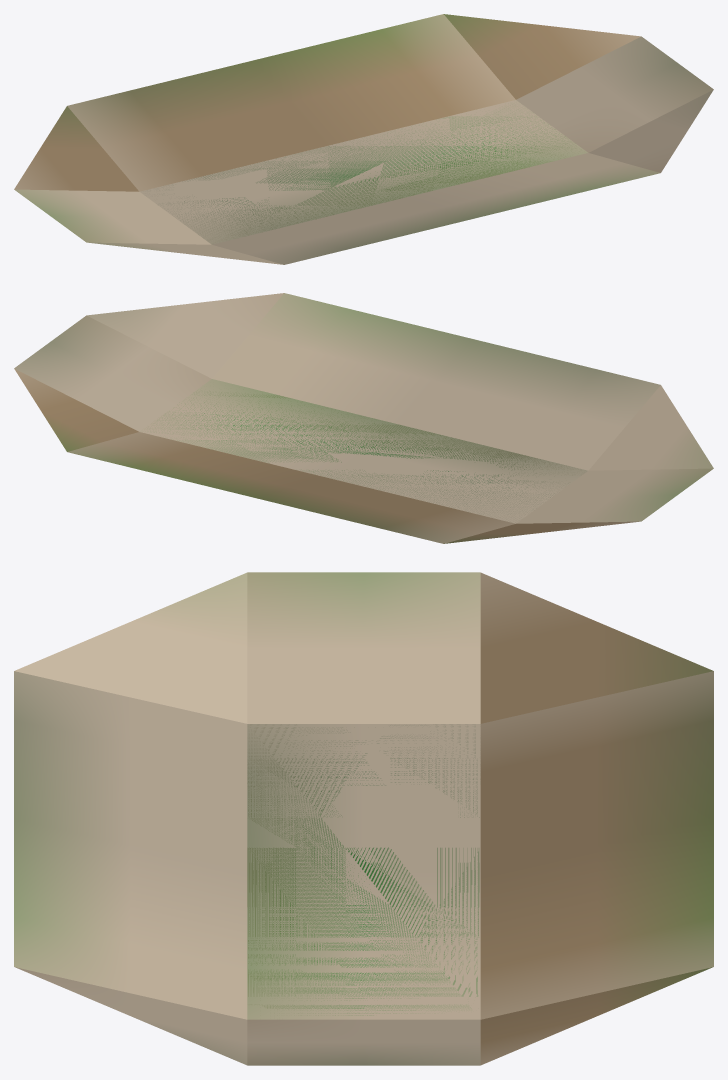
Rendered from plate.obj.
3 renders of one model, top to bottom at view 1: azimuth 30°, elevation 25°; view 2: azimuth 150°, elevation 25°; view 3: azimuth 270°, elevation 25°, orthographic. The views are drawn at different scales.
Visible parts, largest first — view 1: Default; view 2: Default; view 3: Default.
Part boxes in pixels (bbox=[...]): Default: bbox=[14, 14, 713, 264]; Default: bbox=[14, 293, 713, 543]; Default: bbox=[14, 572, 713, 1065].
Size of the model in its own units: 0.625 by 0.0312 by 0.375.
